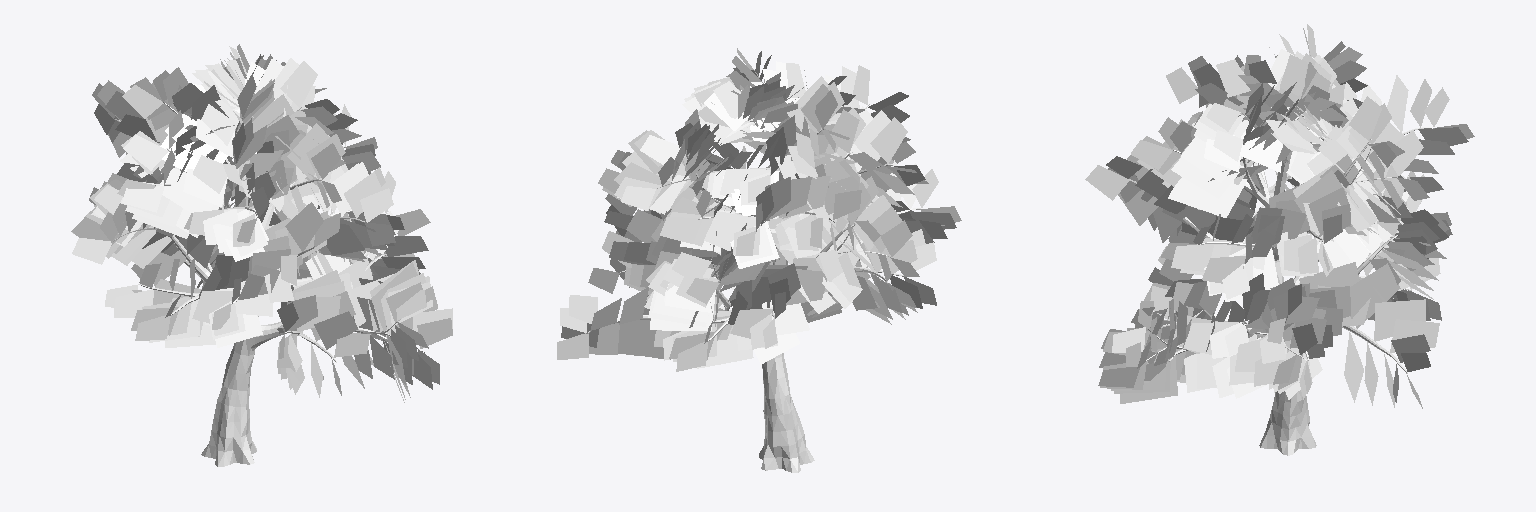
The model's file is Tree_4.obj.
3 renders of one model, left to right at view 1: azimuth 30°, elevation 25°; view 2: azimuth 150°, elevation 25°; view 3: azimuth 270°, elevation 25°, orthographic.
Parts seen in each view (by area): view 1: tree; view 2: tree; view 3: tree.
Boxes of the visible parts, box(x1,y1,x2,y2) form: tree: box(71, 44, 452, 466); tree: box(557, 48, 961, 472); tree: box(1085, 24, 1474, 455).
Size of the model in its own units: 340 by 380 by 340.